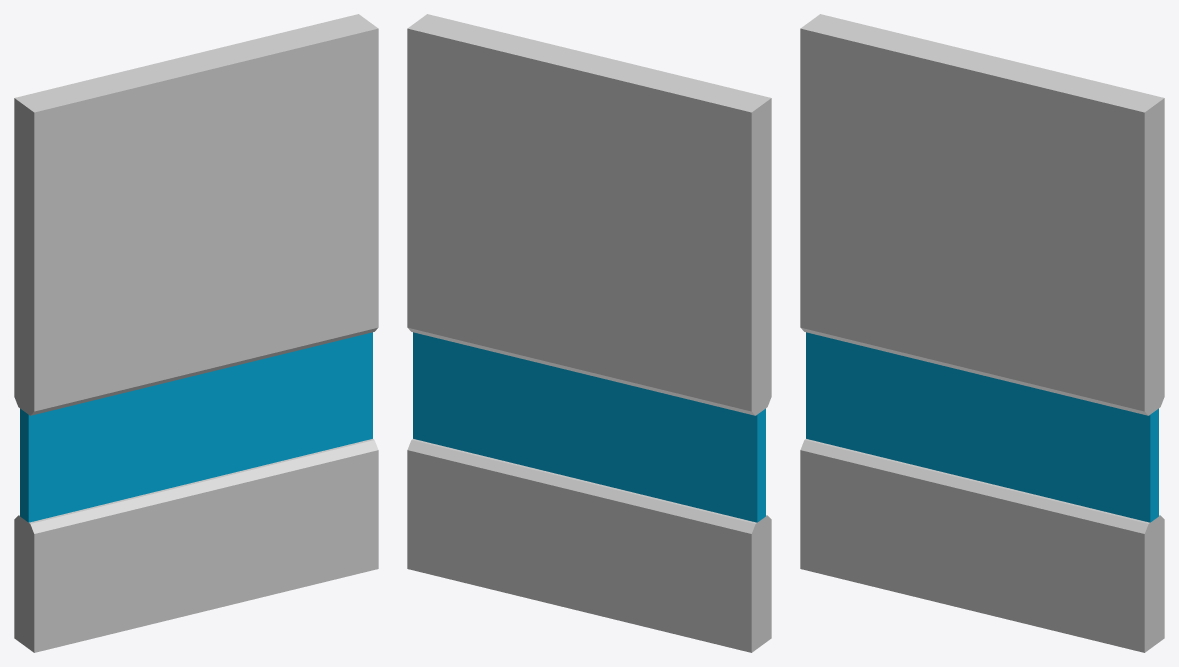
Rendered from K2_wall_123.fbx.
3 renders of one model, left to right at view 1: azimuth 30°, elevation 25°; view 2: azimuth 150°, elevation 25°; view 3: azimuth 330°, elevation 25°, orthographic.
Visible parts, largest first — view 1: polySurface69; view 2: polySurface69; view 3: polySurface69.
Part boxes in pixels (<box>): polySurface69: <box>14,14,378,652</box>; polySurface69: <box>407,14,771,652</box>; polySurface69: <box>800,14,1164,652</box>.
Bounding box in the file's own units: 20 × 30 × 2.
